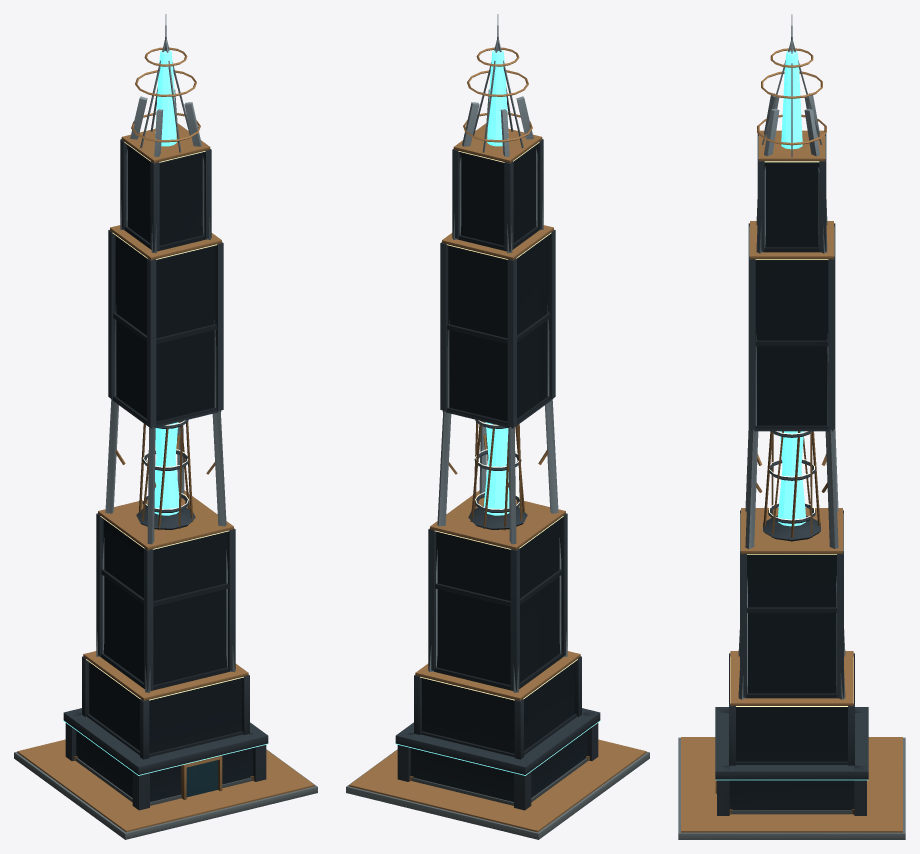
The model's file is agent-spire.lod2.glb.
The picture shows the model from 3 angles, left to right: view 1: azimuth 30°, elevation 25°; view 2: azimuth 150°, elevation 25°; view 3: azimuth 270°, elevation 25°; orthographic projection. The views are drawn at different scales.
Parts seen in each view (by area): view 1: structure, lobby; view 2: structure, lobby; view 3: structure, lobby.
Boxes of the visible parts, left/top/right/bottom form: structure: left=14, top=14, right=317, bottom=839; lobby: left=76, top=730, right=252, bottom=801; structure: left=346, top=14, right=649, bottom=839; lobby: left=411, top=730, right=587, bottom=801; structure: left=678, top=14, right=905, bottom=839; lobby: left=729, top=780, right=854, bottom=810.
Size of the model in its own units: 23 by 86.9 by 23.
